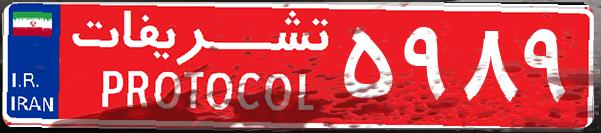5: (340, 20, 400, 115)
8: (460, 20, 520, 115)
9: (400, 20, 460, 115), (520, 20, 580, 115)
تشریفات: (60, 8, 340, 125)
